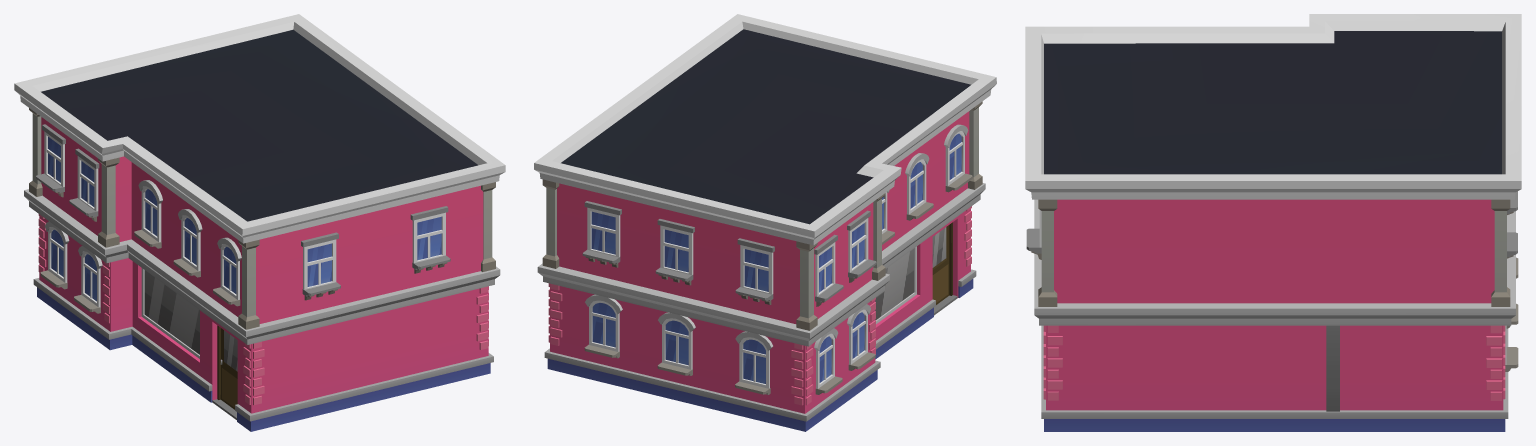
Rendered from Building_1_2_C.fbx.
3 views of the same model, side by side, from view 1: azimuth 30°, elevation 25°; view 2: azimuth 150°, elevation 25°; view 3: azimuth 270°, elevation 25° (orthographic). The views are drawn at different scales.
Parts seen in each view (by area): view 1: Building_1_2_C; view 2: Building_1_2_C; view 3: Building_1_2_C.
Boxes of the visible parts, left/top/right/bottom form: Building_1_2_C: left=14, top=14, right=505, bottom=431; Building_1_2_C: left=534, top=14, right=996, bottom=431; Building_1_2_C: left=1025, top=14, right=1521, bottom=431.
Bounding box in the file's own units: 841 × 600 × 1057.
